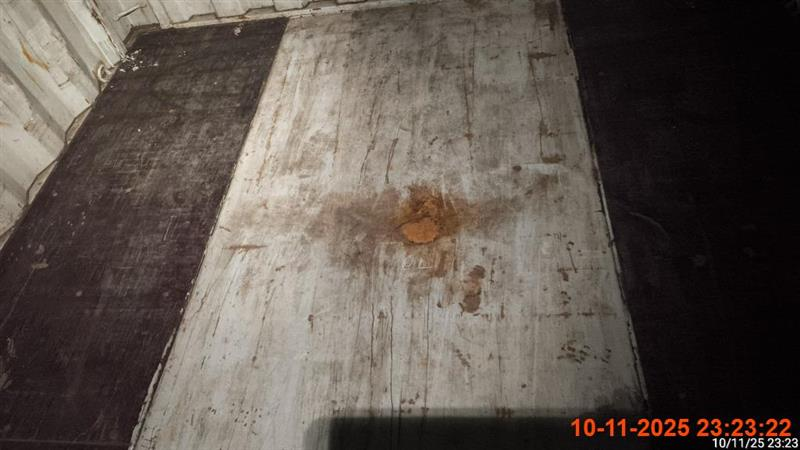broken: (2, 2, 651, 441)
